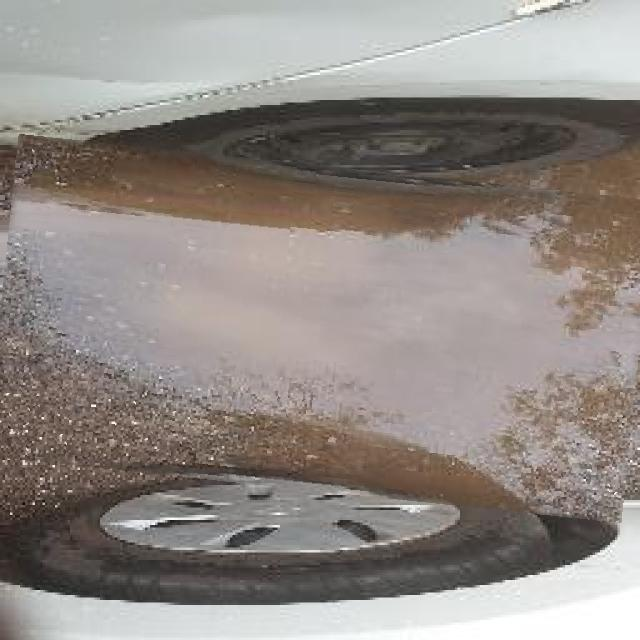puddle: (1, 151, 640, 507)
